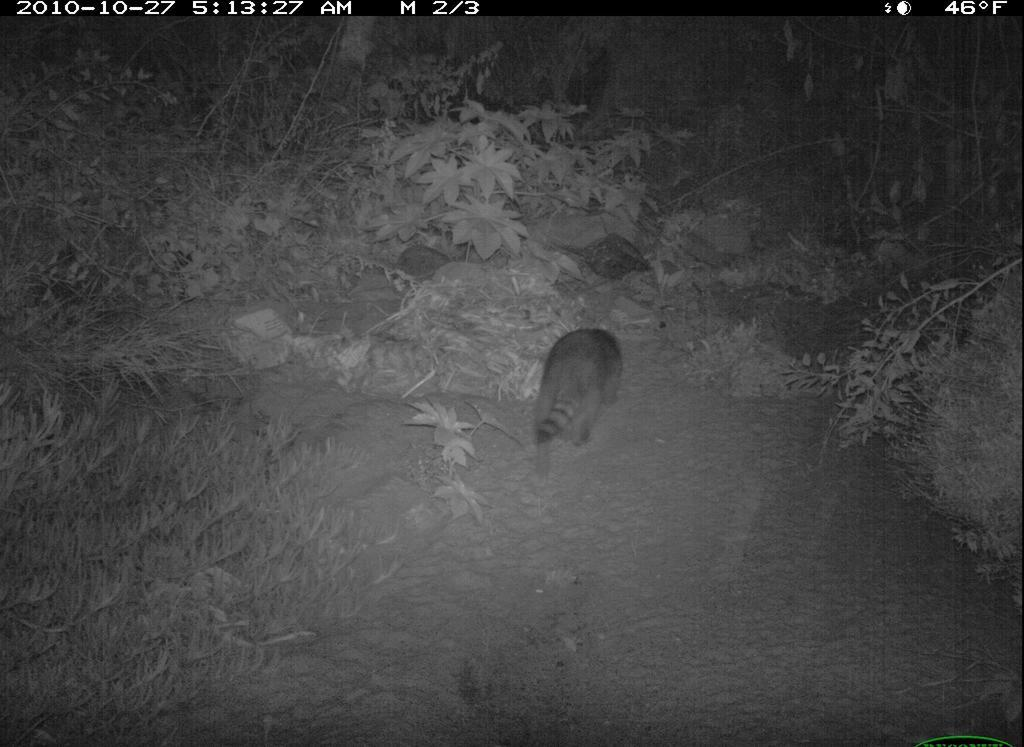raccoon: (528, 323, 647, 457)
